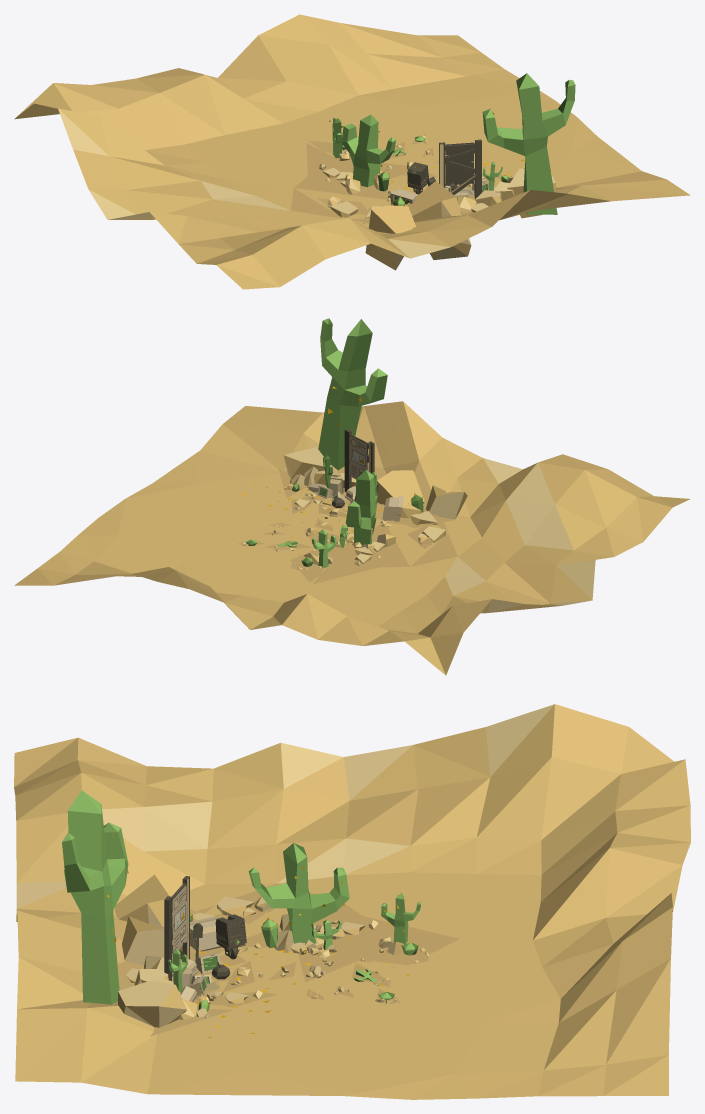
The model's file is pconwheelendfinish.glb.
3 views of the same model, one above another, from view 1: azimuth 30°, elevation 25°; view 2: azimuth 150°, elevation 25°; view 3: azimuth 270°, elevation 25° (orthographic). The views are drawn at different scales.
Visible parts, largest first — view 1: floor, cactus.005, cactus, Ad-mywork, rock.061, rock.062, pc, rock.055; view 2: floor, cactus.005, cactus, Ad-mywork, rock.061, rock.062, rock.055; view 3: floor, cactus.005, cactus, rock.055, Ad-mywork, rock.062, rock.061, pc, shadow.013, cactus.001, broken-pc.006.
Boxes of the visible parts, left/top/right/bottom form: floor: left=14, top=14, right=690, bottom=289; cactus.005: left=482, top=73, right=575, bottom=214; cactus: left=341, top=114, right=395, bottom=187; Ad-mywork: left=439, top=139, right=481, bottom=198; rock.061: left=406, top=181, right=471, bottom=259; rock.062: left=365, top=205, right=416, bottom=270; pc: left=407, top=162, right=428, bottom=194; rock.055: left=507, top=168, right=555, bottom=218; floor: left=14, top=401, right=690, bottom=675; cactus.005: left=318, top=318, right=387, bottom=470; cactus: left=345, top=469, right=377, bottom=544; Ad-mywork: left=344, top=429, right=374, bottom=491; rock.061: left=377, top=470, right=424, bottom=506; rock.062: left=425, top=485, right=467, bottom=519; rock.055: left=283, top=447, right=325, bottom=478; floor: left=14, top=704, right=690, bottom=1099; cactus.005: left=62, top=790, right=128, bottom=1004; cactus: left=248, top=843, right=349, bottom=943; rock.055: left=118, top=980, right=186, bottom=1027; Ad-mywork: left=164, top=876, right=189, bottom=980; rock.062: left=115, top=874, right=172, bottom=927; rock.061: left=122, top=916, right=190, bottom=965; pc: left=215, top=914, right=246, bottom=966; shadow.013: left=343, top=938, right=460, bottom=965; cactus.001: left=381, top=893, right=421, bottom=944; broken-pc.006: left=190, top=916, right=221, bottom=951.
Bounding box in the file's own units: 53.36 × 20.68 × 47.2.
1 material, 1 textured.
